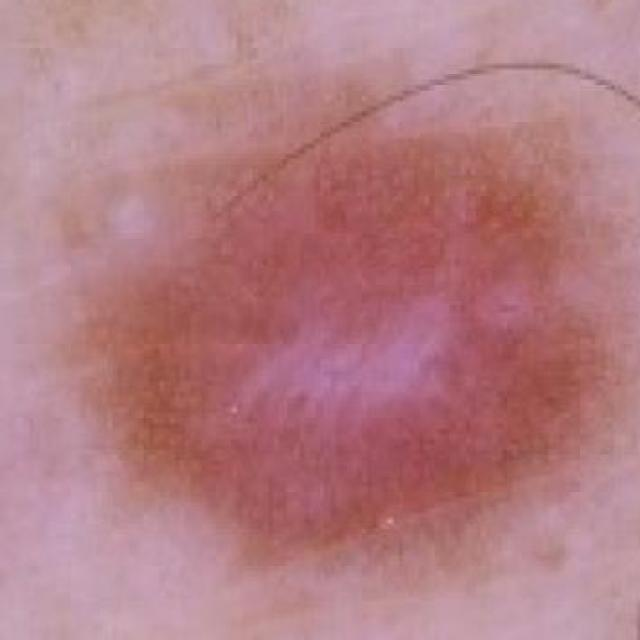DF: (63, 90, 640, 569)
